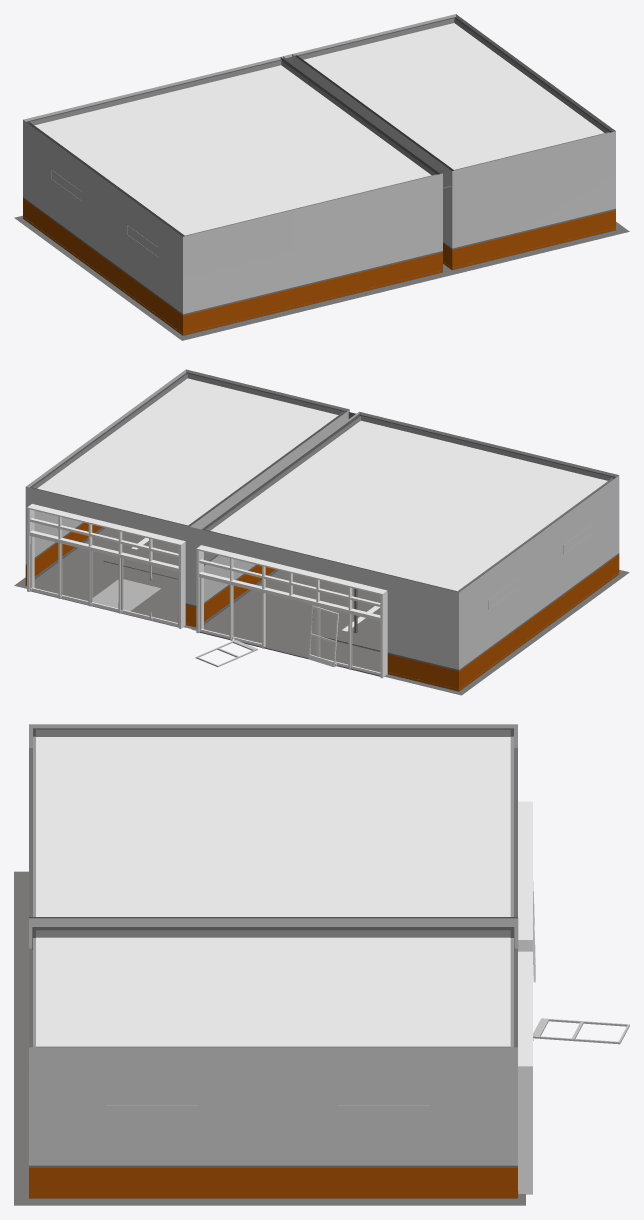
Rendered from SM_H_Building_Tide_Examinationroom_04_ATLAS.fbx.
The picture shows the model from 3 angles, top to bottom: view 1: azimuth 30°, elevation 25°; view 2: azimuth 150°, elevation 25°; view 3: azimuth 270°, elevation 25°; orthographic projection. The views are drawn at different scales.
Parts seen in each view (by area): view 1: SM_H_Building_Tide_Examinationroom_04_ATLAS; view 2: SM_H_Building_Tide_Examinationroom_04_ATLAS; view 3: SM_H_Building_Tide_Examinationroom_04_ATLAS.
Part boxes in pixels (x1,y1,x2,y2): SM_H_Building_Tide_Examinationroom_04_ATLAS: (14, 14, 629, 340); SM_H_Building_Tide_Examinationroom_04_ATLAS: (14, 369, 629, 695); SM_H_Building_Tide_Examinationroom_04_ATLAS: (14, 724, 629, 1205).
Bounding box in the file's own units: 2393 × 1866 × 518.
